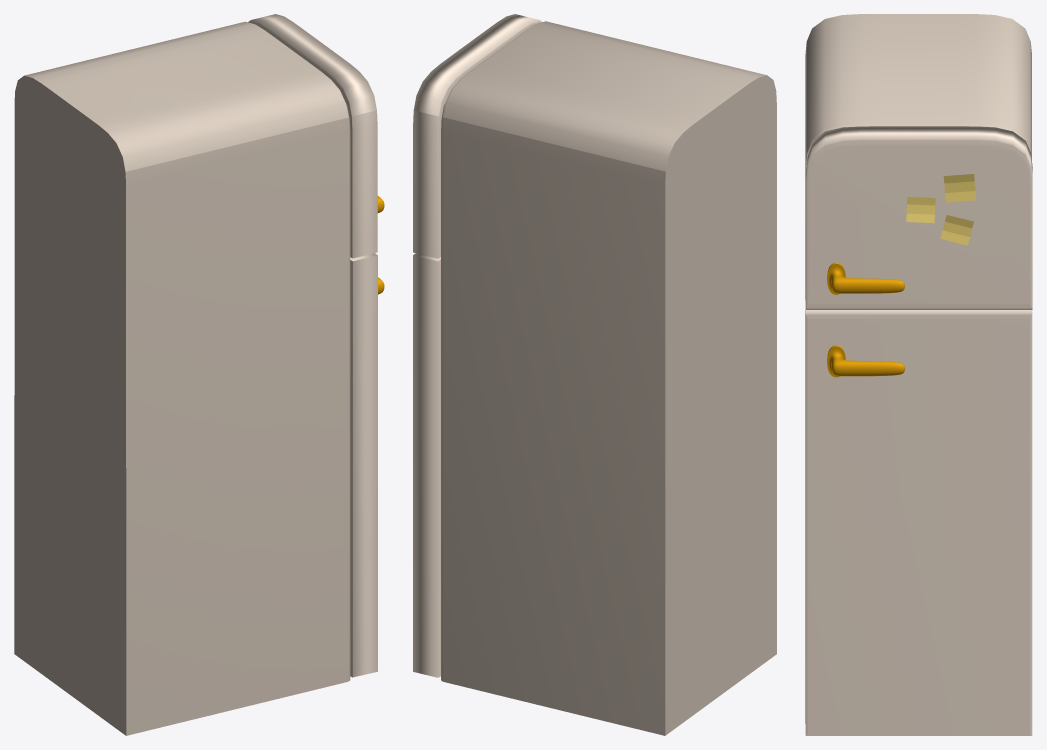
File: fridge.fbx
The picture shows the model from 3 angles, left to right: view 1: azimuth 30°, elevation 25°; view 2: azimuth 150°, elevation 25°; view 3: azimuth 270°, elevation 25°; orthographic projection.
Parts seen in each view (by area): view 1: Fridge, FridgeDoor, FridgeUpperDoor; view 2: Fridge, FridgeDoor, FridgeUpperDoor; view 3: FridgeDoor, FridgeUpperDoor, Fridge, Handle.001, Handle, Note, Note.001, Note.002.
Part boxes in pixels (<box>): Fridge: <box>14,21,350,735</box>; FridgeDoor: <box>350,253,377,677</box>; FridgeUpperDoor: <box>248,14,377,258</box>; Fridge: <box>441,21,776,735</box>; FridgeDoor: <box>413,253,440,677</box>; FridgeUpperDoor: <box>413,14,542,258</box>; FridgeDoor: <box>805,300,1032,735</box>; FridgeUpperDoor: <box>806,126,1032,309</box>; Fridge: <box>805,14,1031,723</box>; Handle.001: <box>827,345,904,377</box>; Handle: <box>827,262,904,294</box>; Note: <box>943,174,975,202</box>; Note.001: <box>906,197,935,223</box>; Note.002: <box>940,215,973,245</box>.
Size of the model in its own units: 84.8 by 175 by 60.14.
